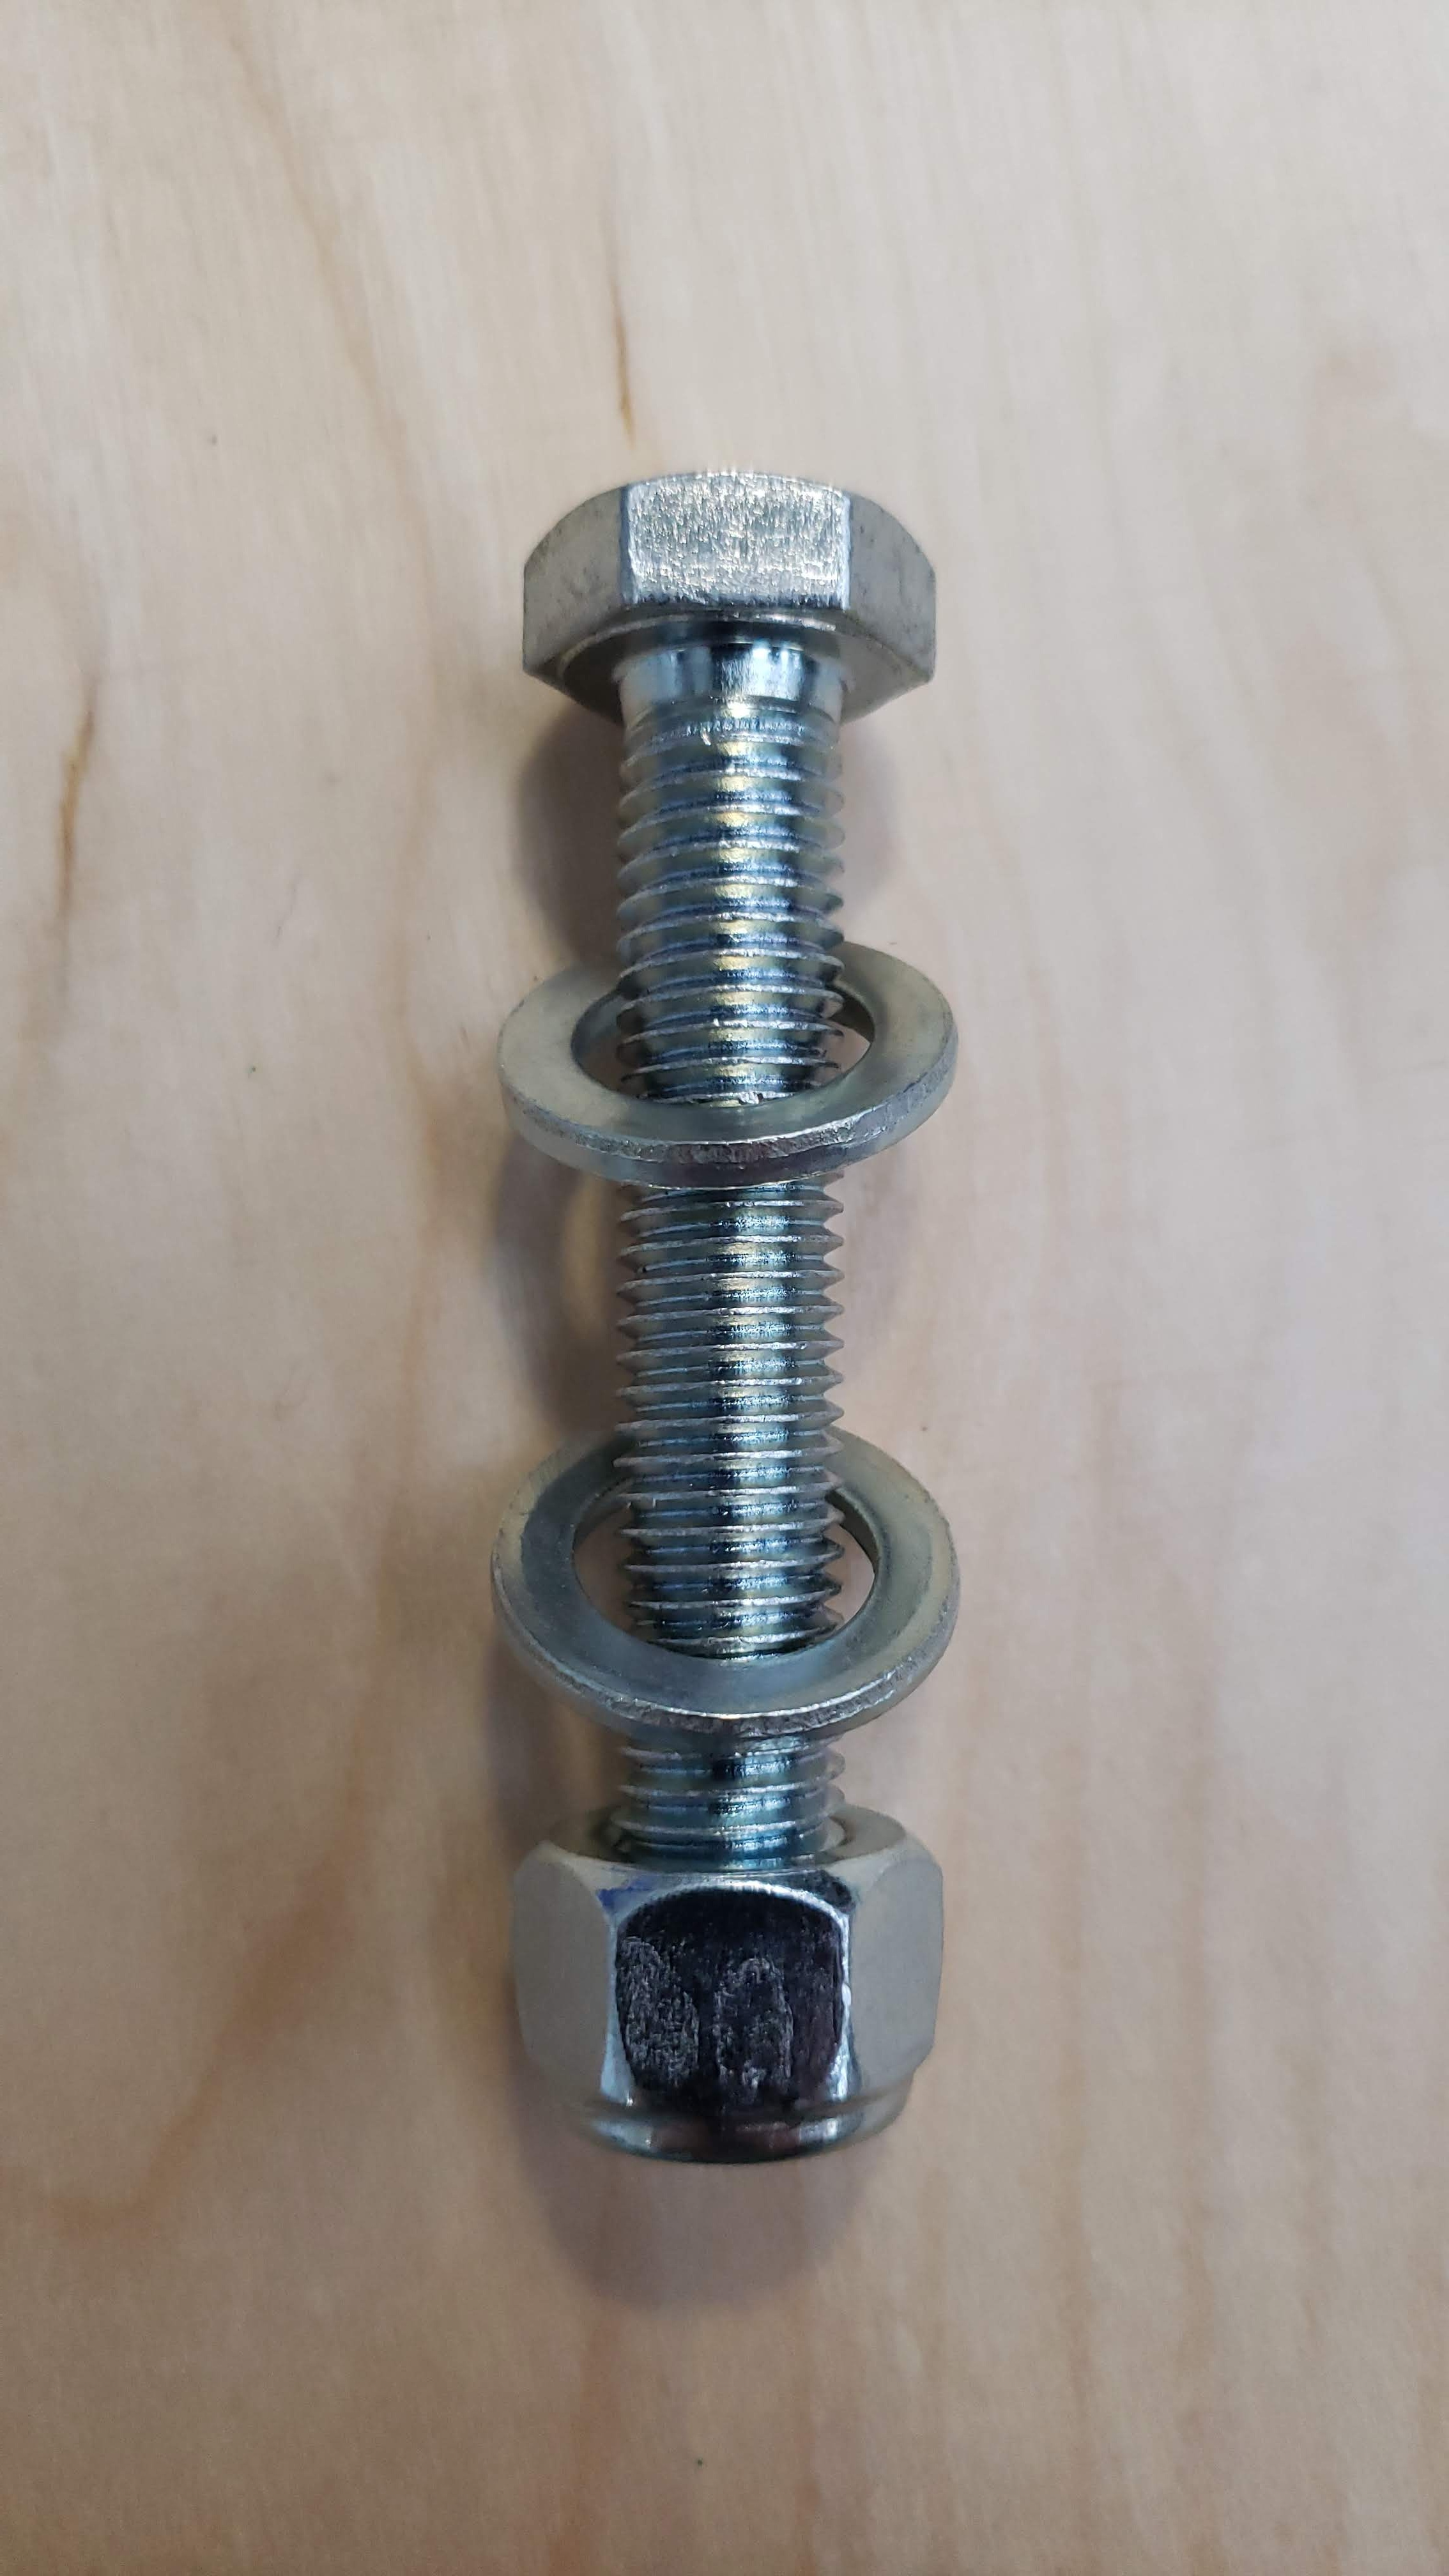FinishedAssembly: (363, 315, 1131, 2348)
